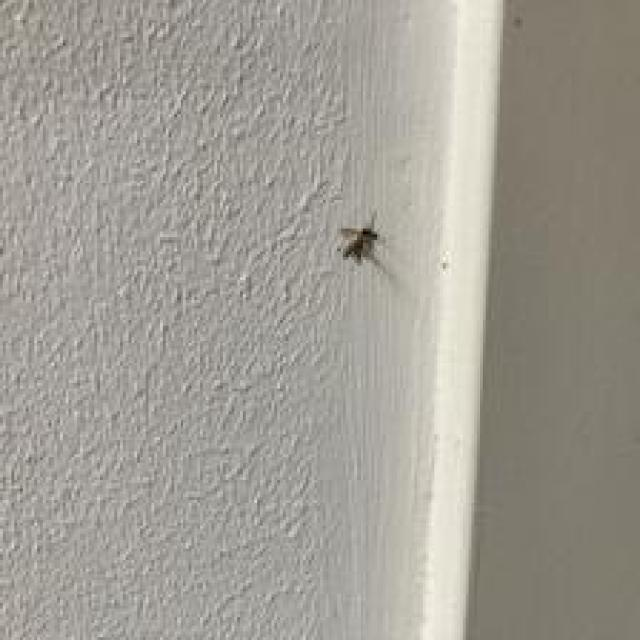Culex: (337, 210, 383, 267)
